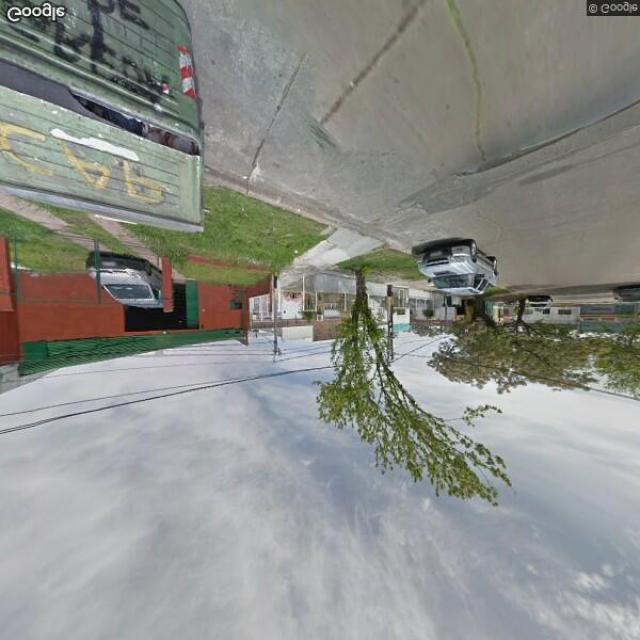garbage container: (2, 1, 219, 243)
